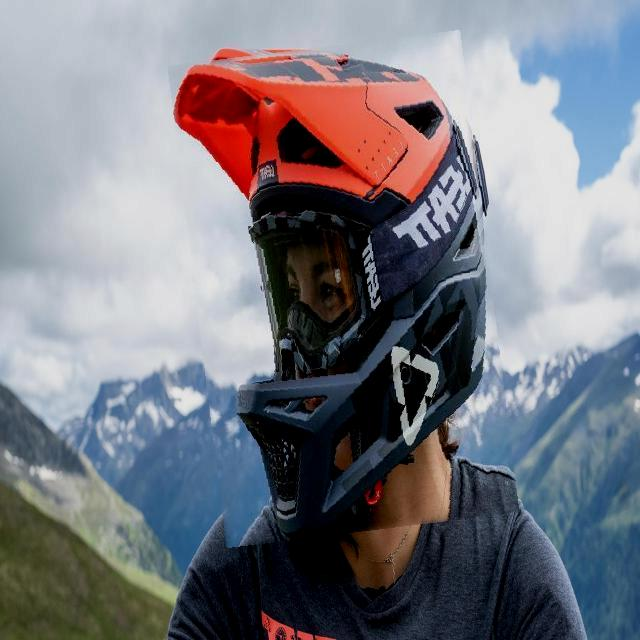helmet: (182, 38, 505, 540)
